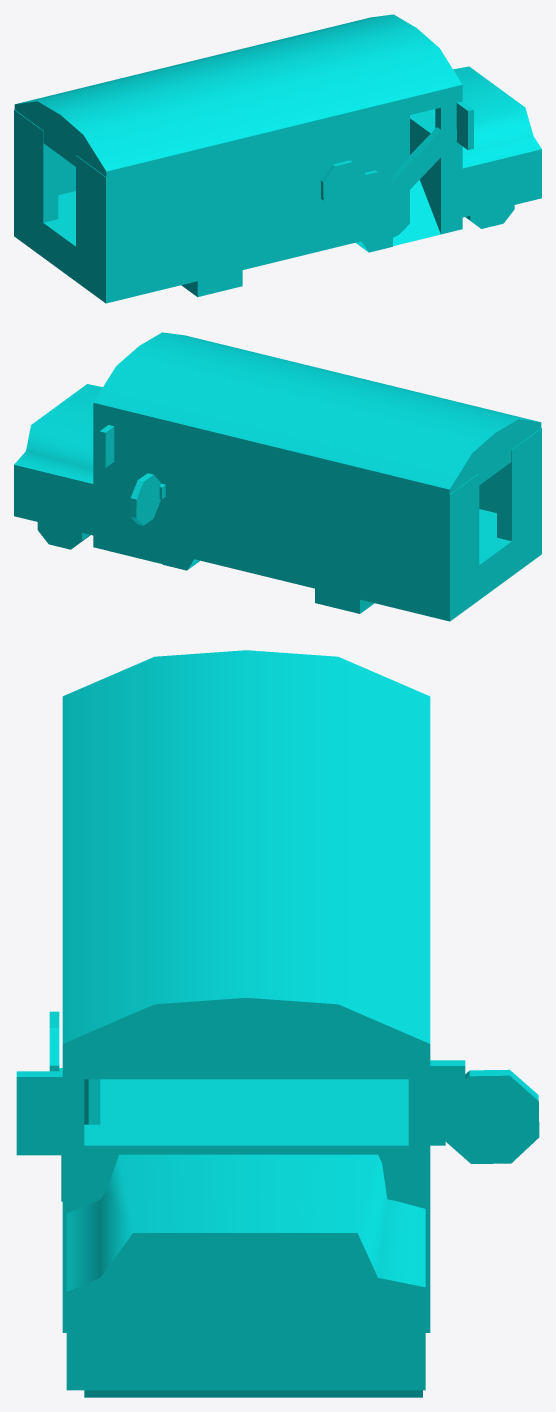
Rendered from SM_Bld_Bus_02_Collision.fbx.
3 renders of one model, top to bottom at view 1: azimuth 30°, elevation 25°; view 2: azimuth 150°, elevation 25°; view 3: azimuth 270°, elevation 25°, orthographic. The views are drawn at different scales.
Visible parts, largest first — view 1: SM_Bld_Bus_02_Collision; view 2: SM_Bld_Bus_02_Collision; view 3: SM_Bld_Bus_02_Collision.
Boxes of the visible parts, x1,y1,x2,y2 form: SM_Bld_Bus_02_Collision: [14, 14, 541, 303]; SM_Bld_Bus_02_Collision: [14, 332, 541, 621]; SM_Bld_Bus_02_Collision: [16, 650, 539, 1397].
Size of the model in its own units: 802 by 311 by 415.
